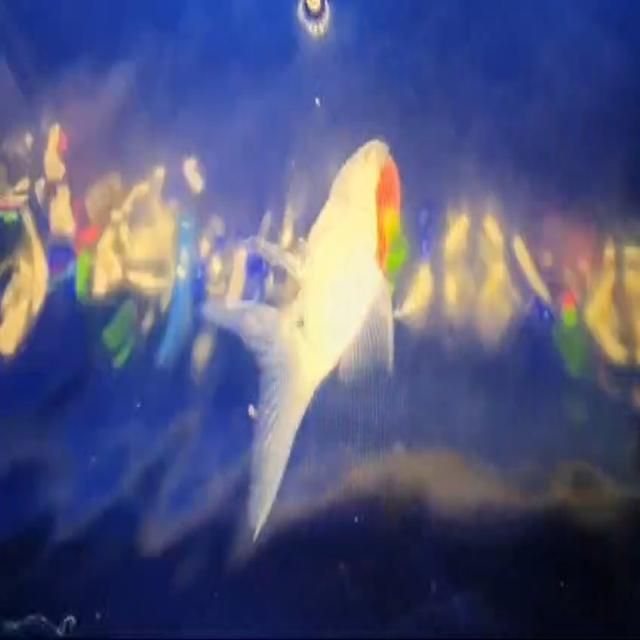fish: (225, 113, 410, 571)
